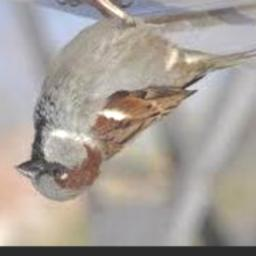Sparrow: (13, 0, 256, 203)
